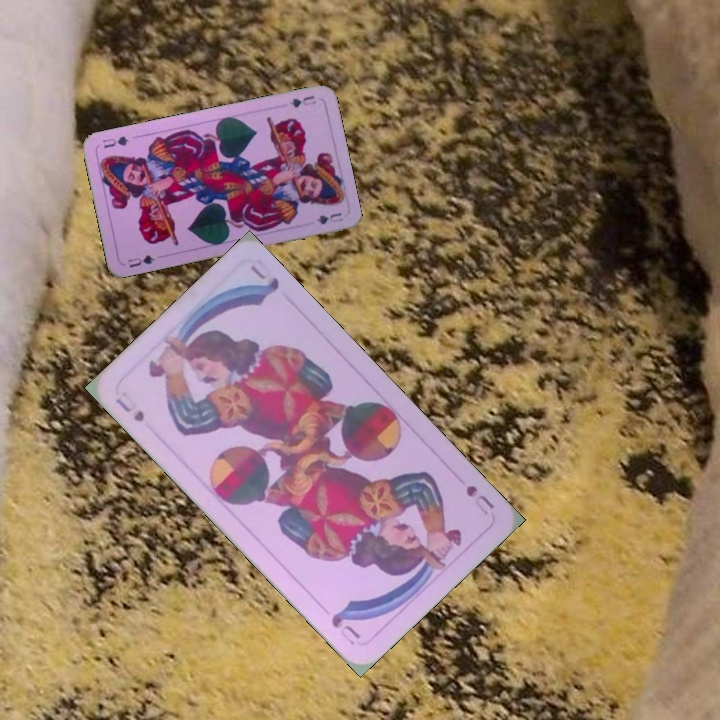GU: (124, 251, 157, 270), (286, 91, 318, 110)
SU: (461, 481, 497, 512), (111, 394, 147, 424)
